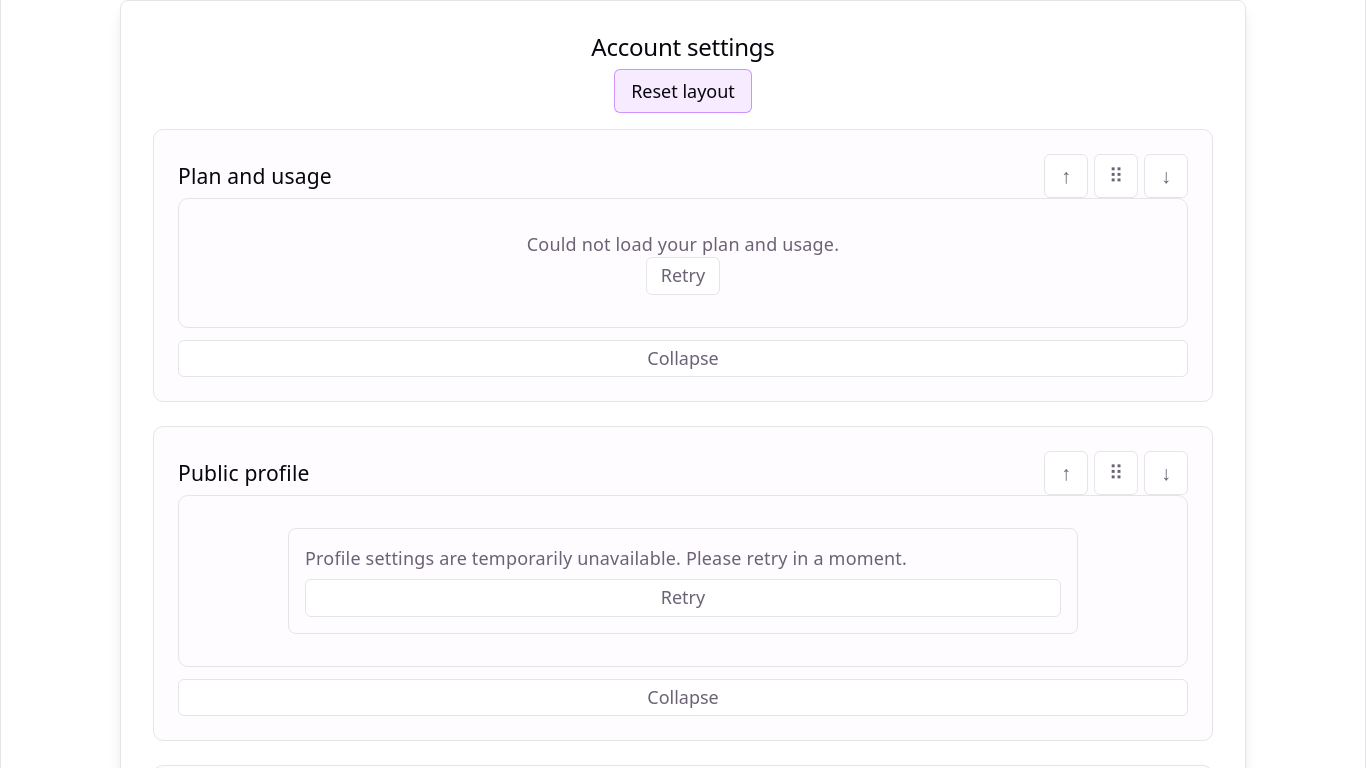
Test: AccountSettings › distinguishes a profile service failure and retries the profile request
The width and height of the screenshot is (1366, 768).
Click the button "Retry" below "Public profile": x=683, y=598 [305,579,1061,617]
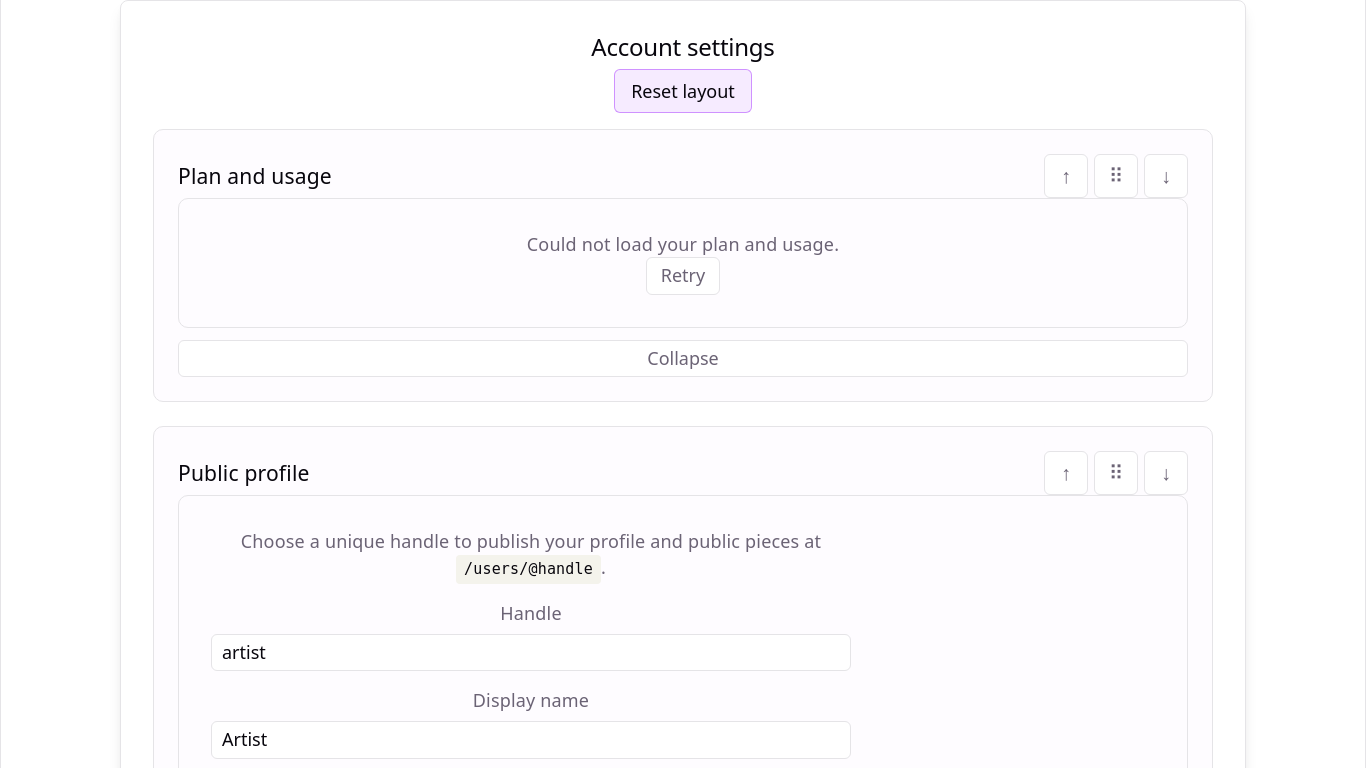
Expected: the field labelled "Handle" holds "artist", [211,634,851,671]
